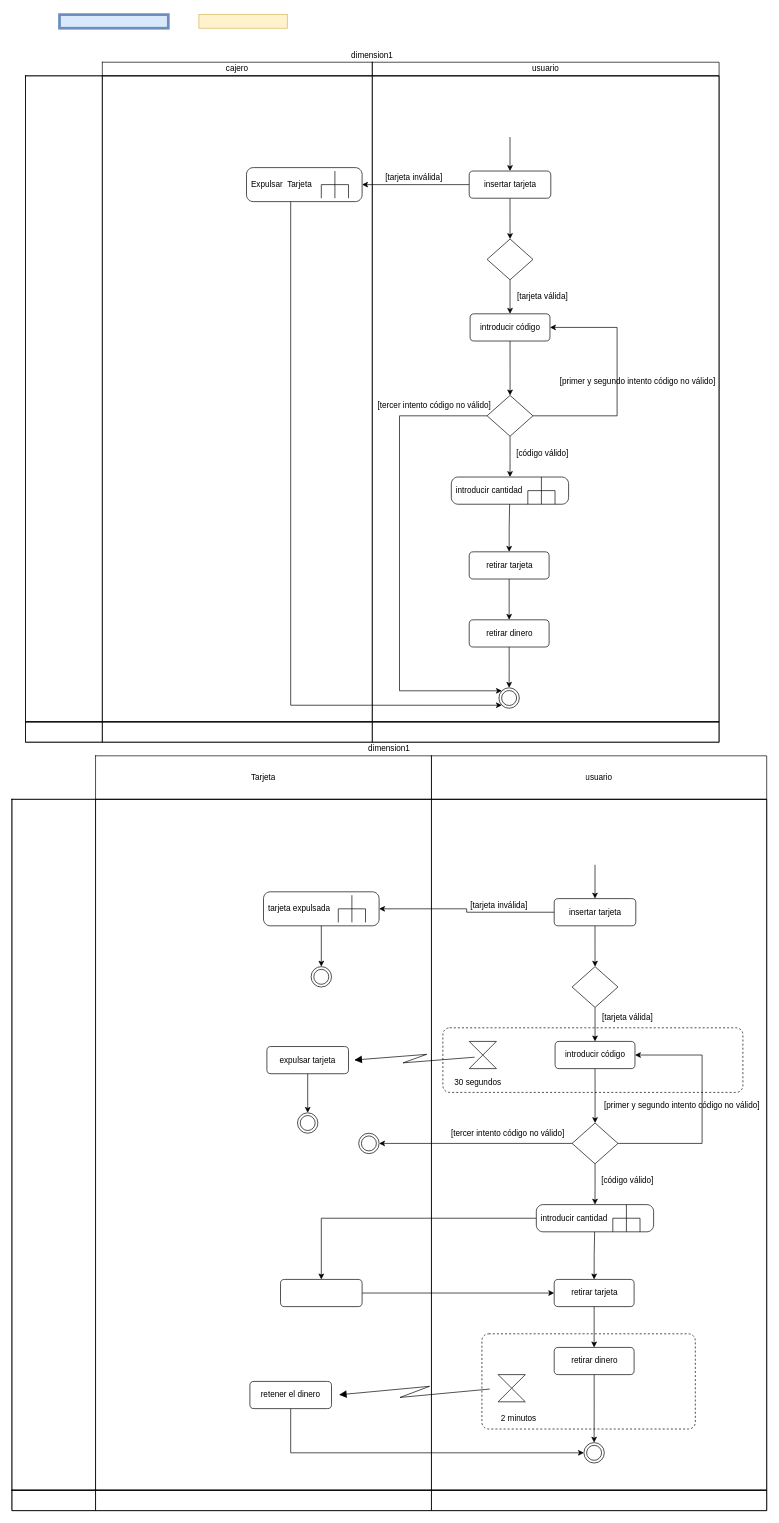
Some shapes in this 779 by 1523 pixel diagram are drawn without their labels. The shapes that lost their labels are listed below. From the top down, each one's centre as x and y in pixels, then its label:
At pixel 113 21: "Dennys Pucha".
At pixel 242 21: "Taller nro 3".
At pixel 321 1293: "arrojar dinero".
